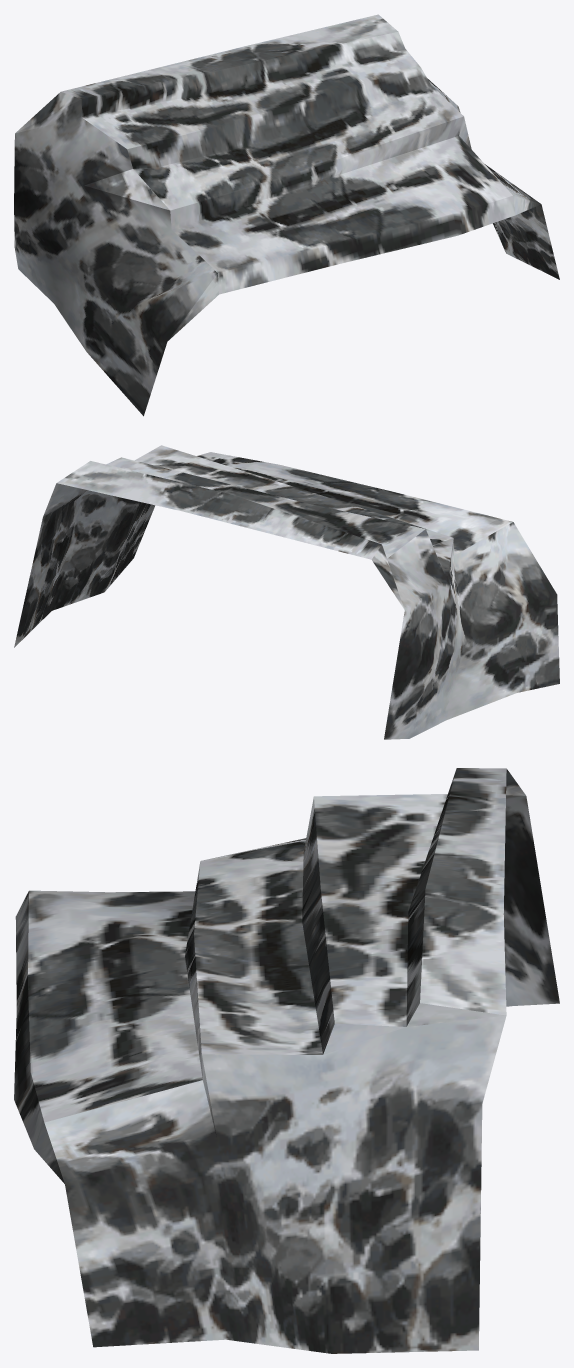
File: 2005_Item_louti_2.FBX
The picture shows the model from 3 angles, top to bottom: view 1: azimuth 30°, elevation 25°; view 2: azimuth 150°, elevation 25°; view 3: azimuth 270°, elevation 25°; orthographic projection. The views are drawn at different scales.
Parts seen in each view (by area): view 1: 2005_Item_louti_2; view 2: 2005_Item_louti_2; view 3: 2005_Item_louti_2.
Boxes of the visible parts, x1,y1,x2,y2 form: 2005_Item_louti_2: [14, 14, 559, 416]; 2005_Item_louti_2: [14, 445, 559, 739]; 2005_Item_louti_2: [14, 768, 559, 1353].
Size of the model in its own units: 197 by 94.11 by 134.
